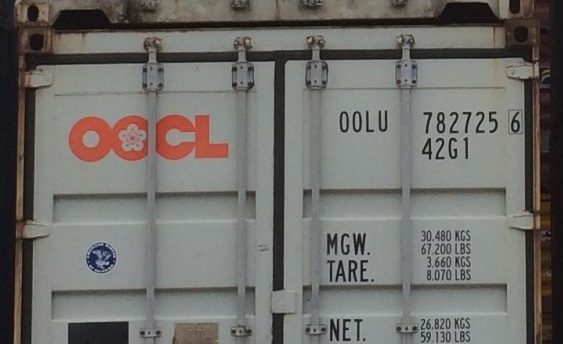container_door: (11, 22, 545, 342)
